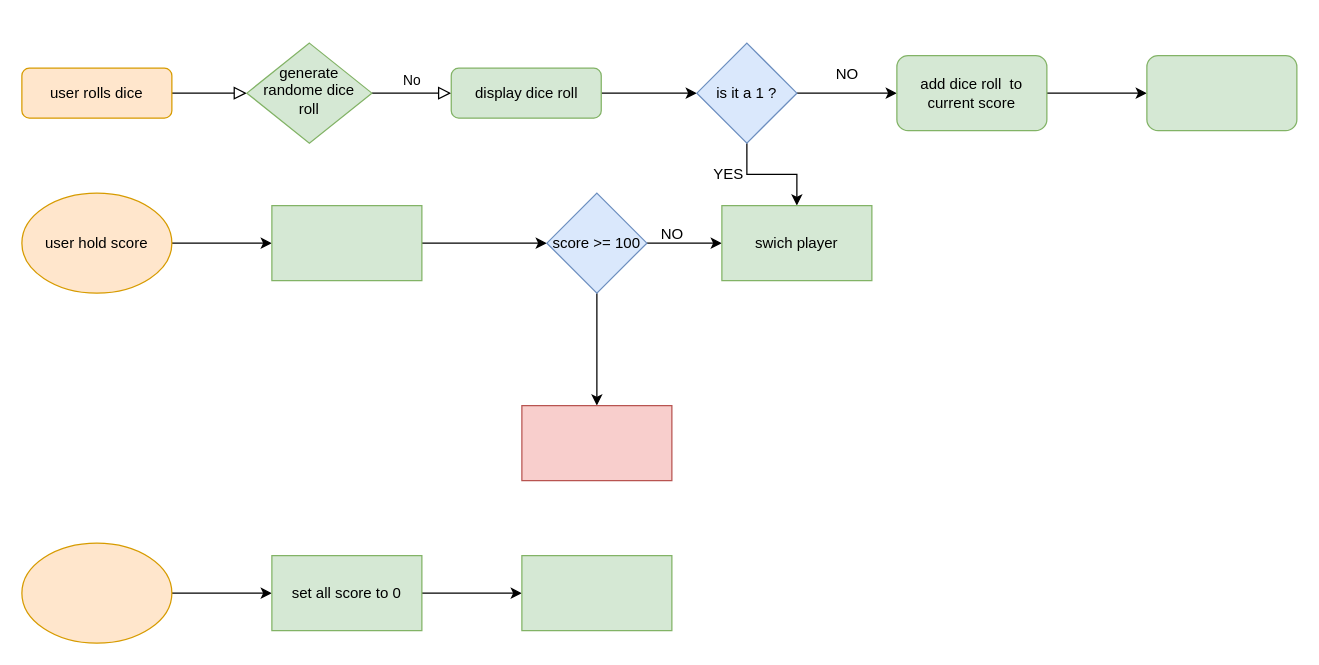
Some shapes in this 1319 by 665 pixel diagram are drawn without their labels. The centre of each missing label's shape, as x and y in pixels:
"add current score to total score" belongs at [346,242].
"current player wins" belongs at [596,442].
"display new score" belongs at [1221,92].
"set player one as starting player" belongs at [596,592].
"user reset game" belongs at [96,592].
